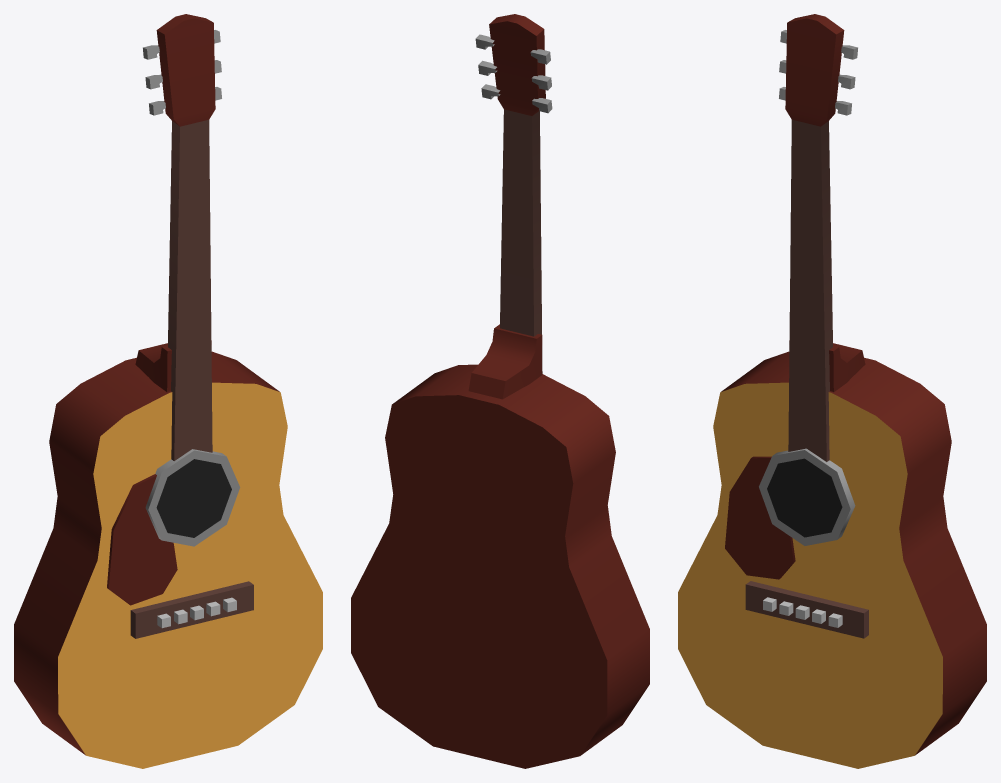
Rendered from guitar.fbx.
3 renders of one model, left to right at view 1: azimuth 30°, elevation 25°; view 2: azimuth 150°, elevation 25°; view 3: azimuth 330°, elevation 25°, orthographic. The views are drawn at different scales.
Parts seen in each view (by area): view 1: guitar; view 2: guitar; view 3: guitar.
Part boxes in pixels (x1,y1,x2,y2): guitar: (14,14,322,768); guitar: (351,14,649,768); guitar: (678,14,986,768).
Bounding box in the file's own units: 109 × 289 × 38.11.
